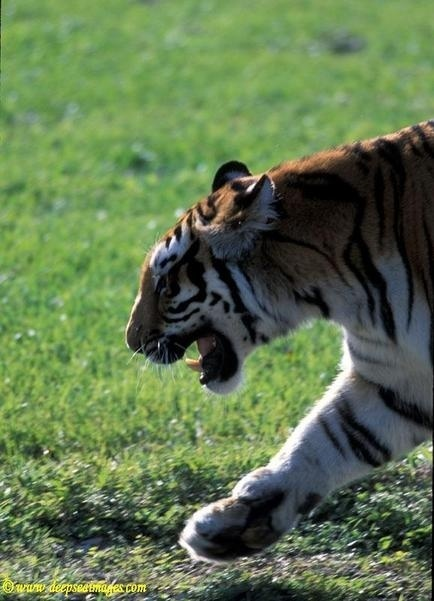tigre: (124, 120, 434, 566)
